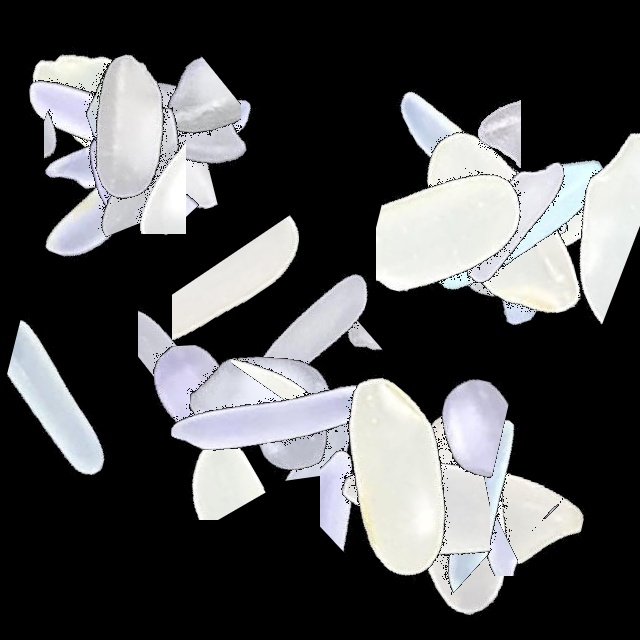Broken: (316, 390, 490, 640), (74, 345, 324, 518), (469, 147, 640, 397), (132, 349, 382, 520), (376, 113, 546, 363), (39, 13, 208, 263), (3, 275, 165, 525), (369, 354, 528, 604), (0, 84, 250, 242), (0, 97, 250, 245), (306, 349, 556, 491), (138, 207, 277, 457), (509, 88, 640, 338), (235, 287, 365, 537), (172, 203, 299, 453), (352, 233, 602, 352), (306, 458, 556, 576), (124, 0, 241, 250), (320, 378, 436, 628), (91, 31, 193, 281), (419, 3, 521, 253), (79, 419, 329, 520), (12, 136, 262, 234), (380, 336, 474, 586), (44, 0, 130, 250), (440, 95, 525, 345), (5, 103, 255, 186), (231, 216, 312, 466), (206, 311, 456, 387), (362, 486, 612, 562)
Full: (0, 0, 250, 250), (360, 386, 610, 636), (299, 383, 549, 633), (160, 288, 410, 538), (336, 390, 586, 640), (25, 14, 275, 264), (189, 204, 439, 454), (0, 57, 250, 307), (53, 0, 303, 250), (390, 106, 640, 356), (355, 41, 605, 291), (377, 100, 627, 350), (0, 41, 250, 291), (390, 94, 640, 344), (390, 96, 640, 346), (145, 293, 395, 543), (267, 350, 517, 600)
